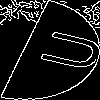U: (25, 25, 100, 74)
